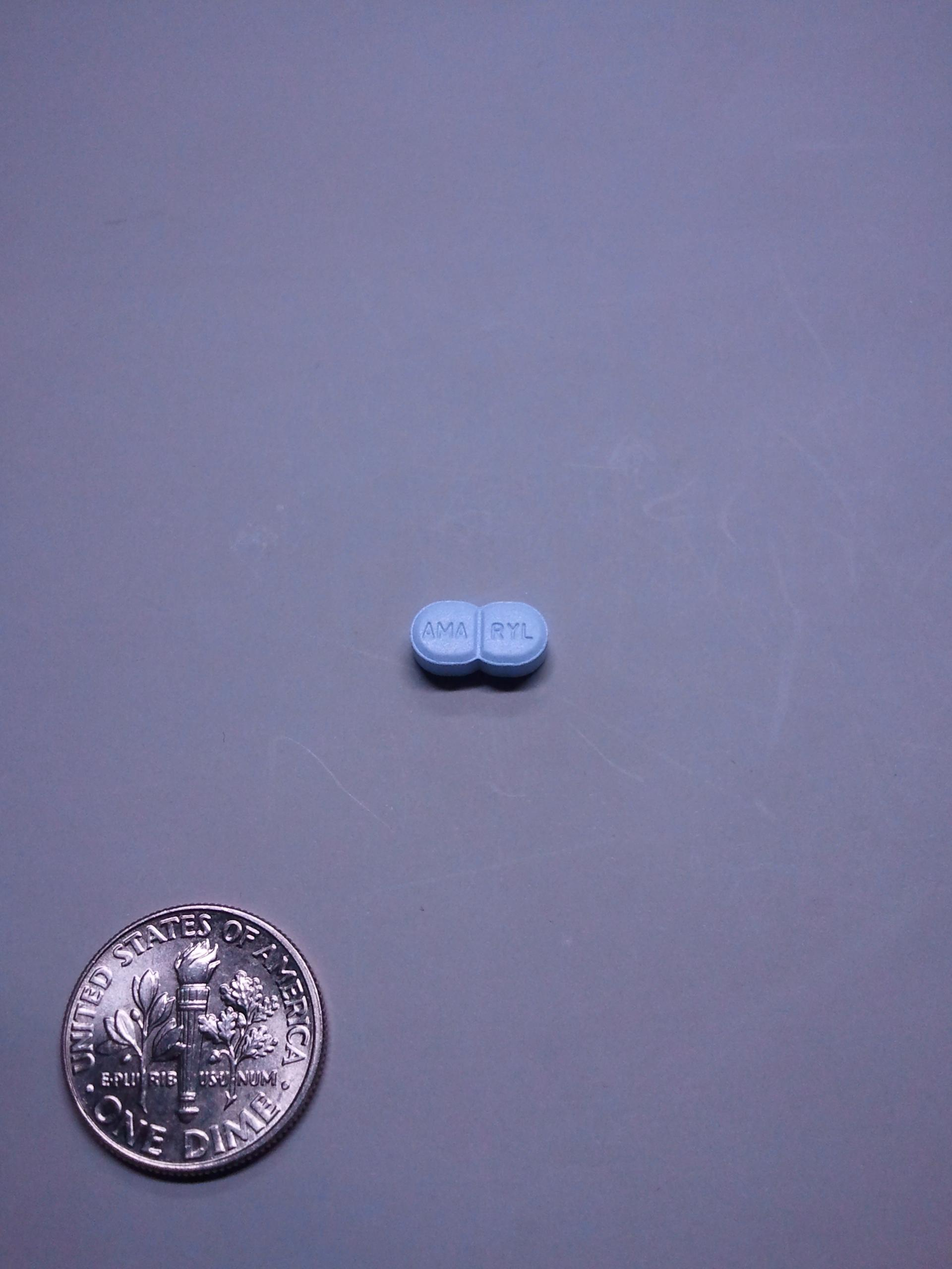Pill: (387, 587, 574, 706)
